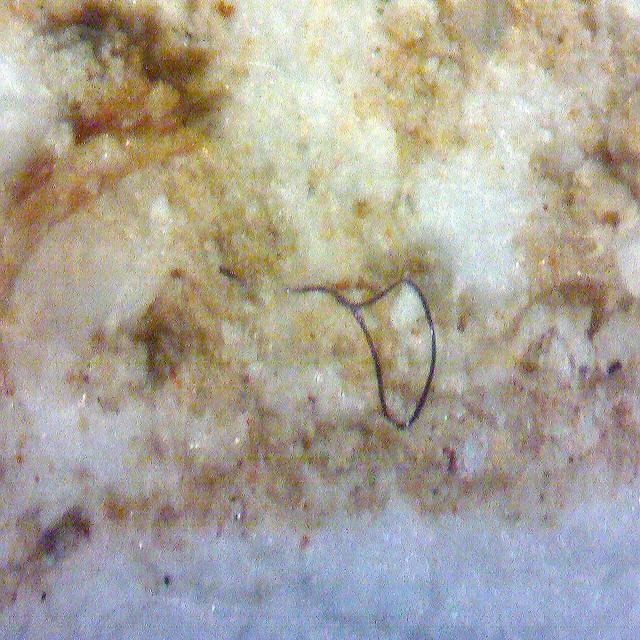microplastic: (283, 223, 483, 439)
